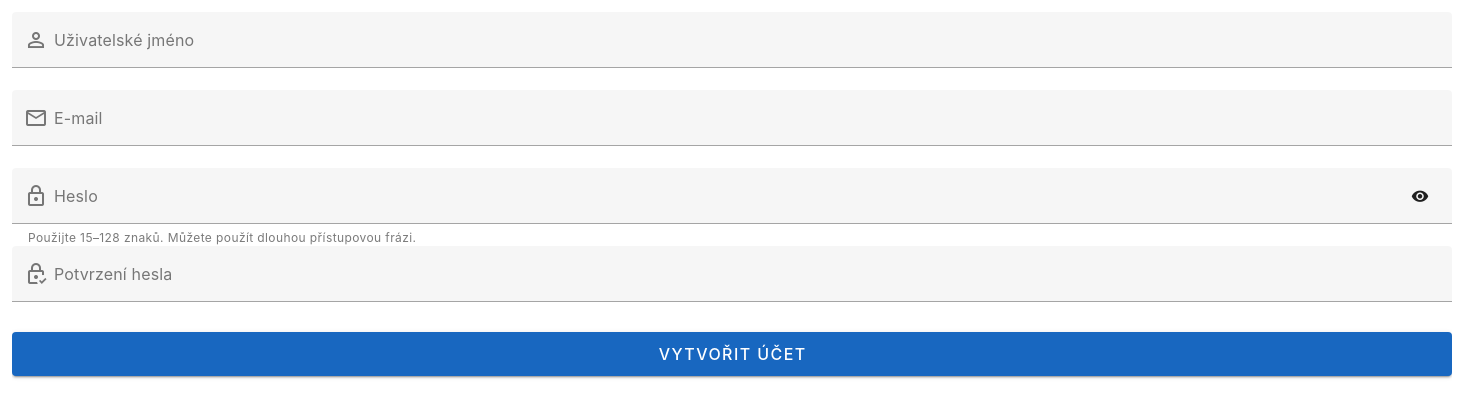
Test: registration password policy (cs) › sends only one account while validation and the request are pending
In the field with id "username": x=750, y=40 [48,12,1452,68], type "petr"
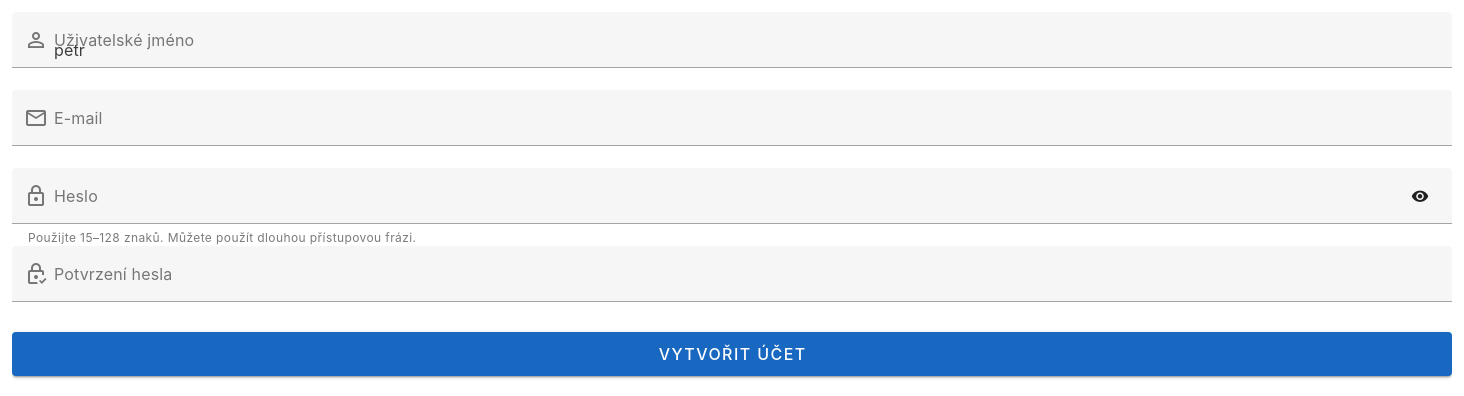
In the field with id "email": x=750, y=118 [48,90,1452,146], type "petr@example.com"
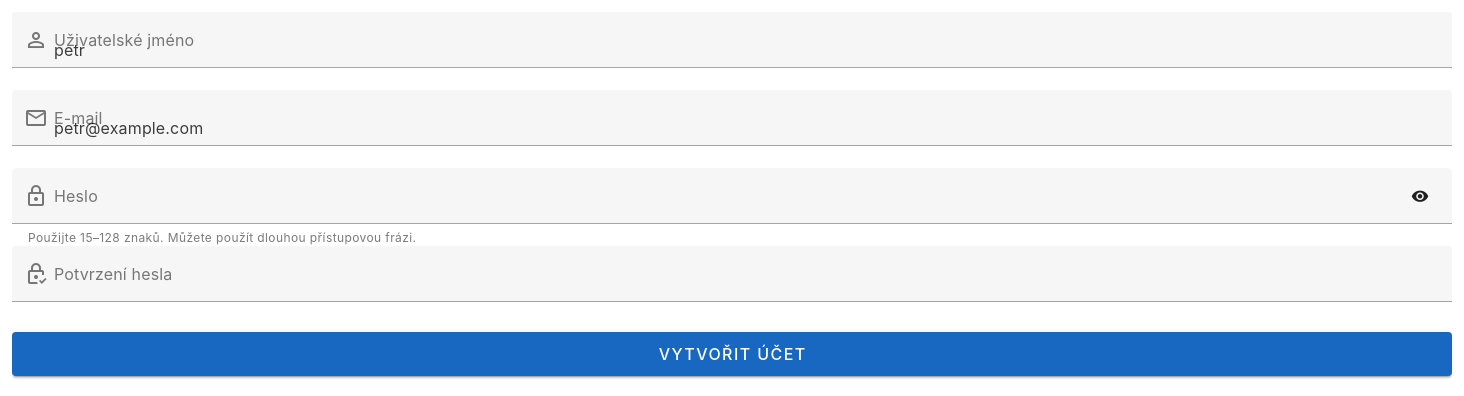
In the password field labelled "Heslo": x=724, y=196 [48,168,1400,224], type "Silver meadow 58!"
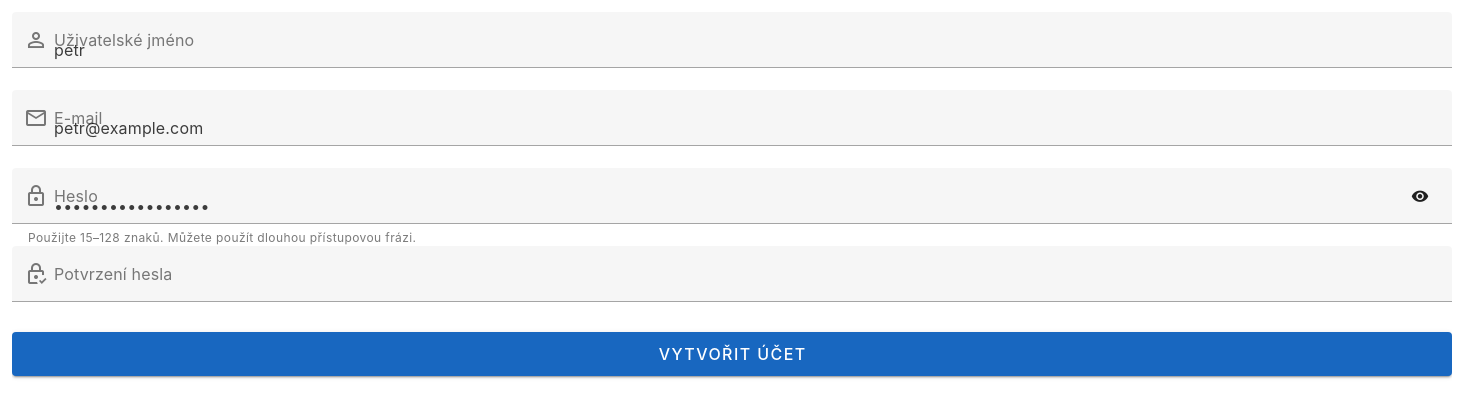
In the password field with id "confirmPassword": x=750, y=274 [48,246,1452,302], type "Silver meadow 58!"
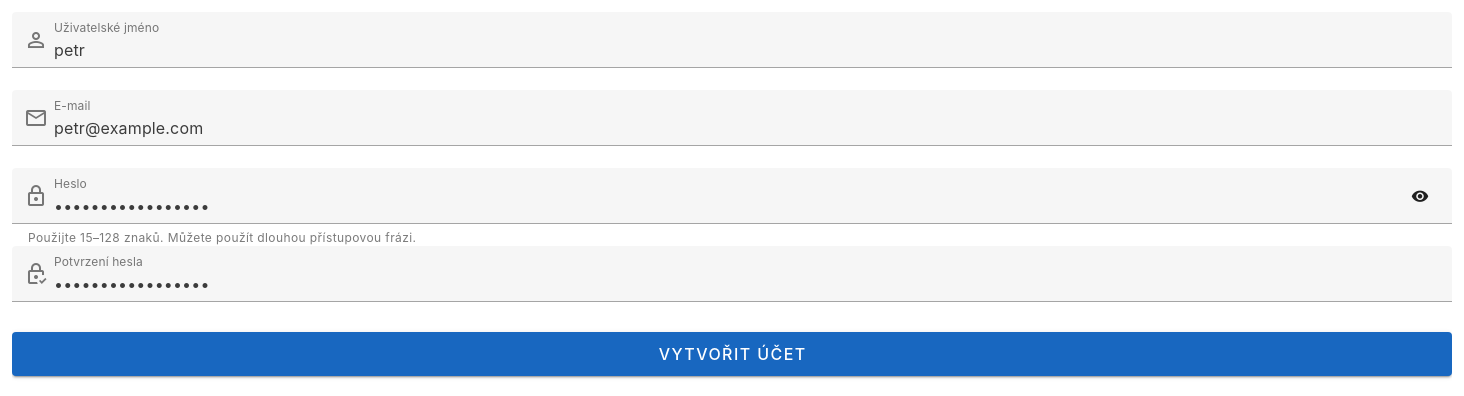
Submit the form
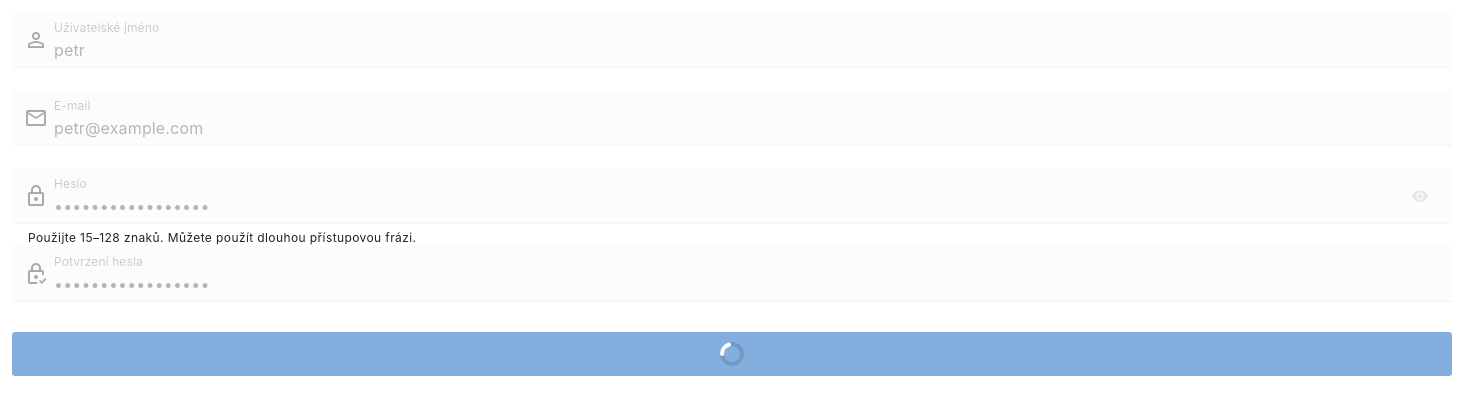
Submit the form
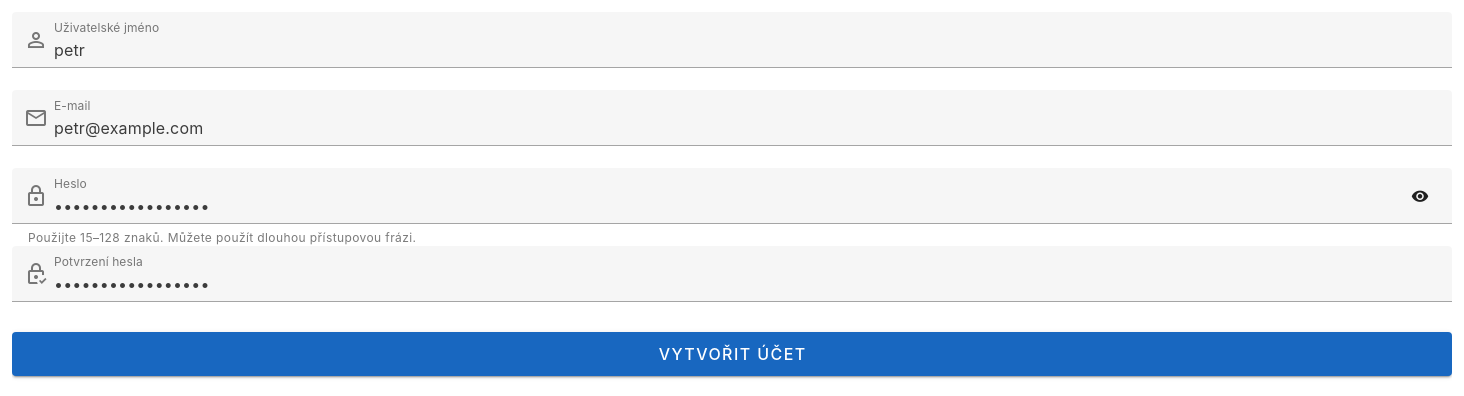
Result: the submit button is enabled at [12,332,1452,376]
